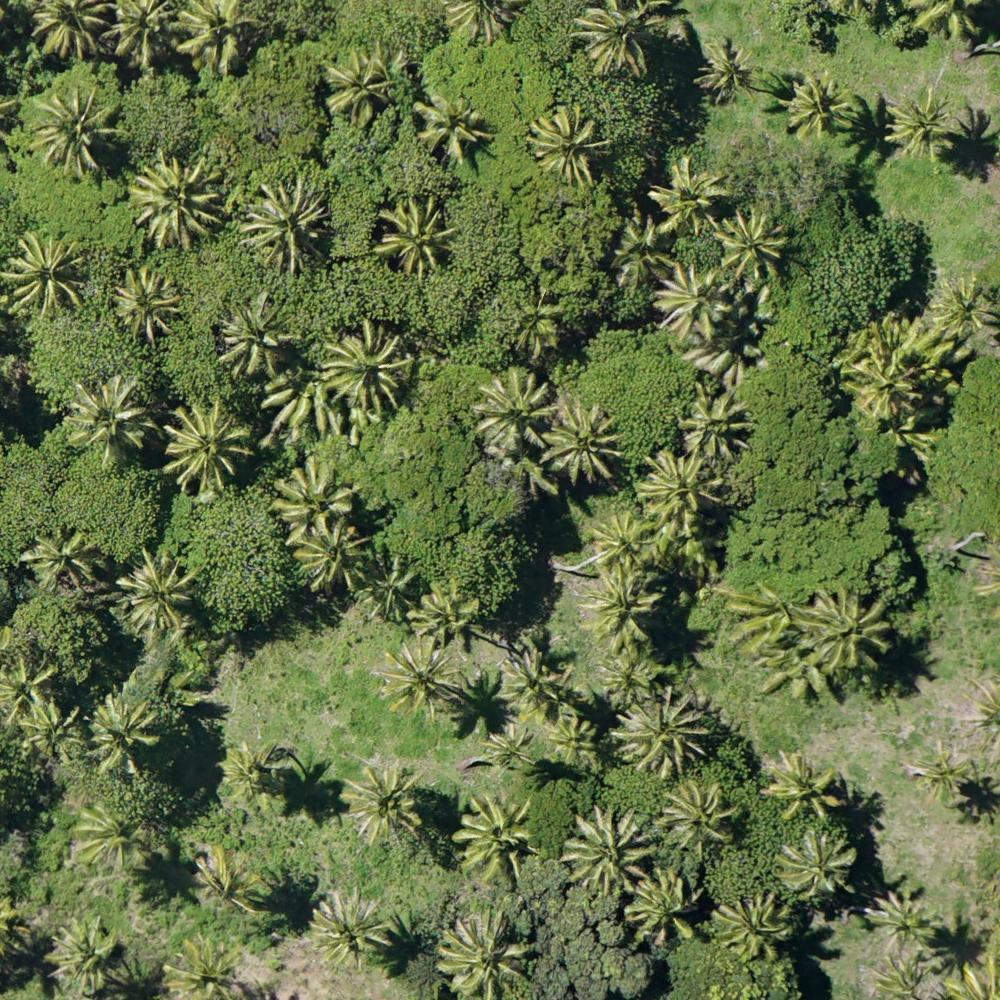Palm: (243, 179, 332, 272), (437, 911, 533, 996), (131, 155, 219, 246), (323, 323, 411, 413), (618, 694, 707, 782), (2, 233, 90, 319), (570, 807, 655, 896), (32, 89, 118, 174), (166, 405, 250, 492), (470, 369, 554, 455), (452, 799, 535, 886), (815, 586, 896, 671), (639, 447, 722, 529), (69, 378, 150, 461), (171, 1, 259, 75), (342, 764, 422, 844), (530, 102, 609, 182), (658, 780, 740, 856), (381, 641, 464, 716), (117, 554, 195, 633), (571, 1, 650, 78), (379, 197, 458, 274), (649, 158, 731, 232), (273, 459, 352, 534), (296, 517, 375, 591), (541, 404, 615, 482), (46, 918, 120, 995), (311, 889, 385, 964), (630, 867, 703, 943), (778, 827, 856, 898), (767, 752, 843, 823), (682, 388, 755, 461), (218, 299, 289, 374), (90, 695, 156, 775), (656, 266, 726, 340), (105, 4, 176, 76), (417, 93, 490, 163), (26, 1, 111, 61), (715, 892, 790, 960), (322, 54, 393, 125), (710, 214, 786, 277), (1, 656, 63, 733), (113, 269, 180, 340), (593, 575, 654, 652), (887, 91, 953, 160), (851, 349, 917, 418), (164, 935, 234, 1000), (23, 531, 97, 591), (504, 651, 569, 719), (787, 74, 852, 141), (199, 847, 264, 914), (72, 807, 141, 867), (865, 891, 935, 950), (220, 742, 285, 805), (909, 745, 974, 807), (933, 278, 993, 341), (592, 654, 657, 712), (695, 40, 757, 98), (416, 584, 473, 645), (24, 701, 78, 762), (547, 715, 604, 772), (366, 556, 419, 616), (592, 513, 642, 571), (482, 718, 536, 769)
